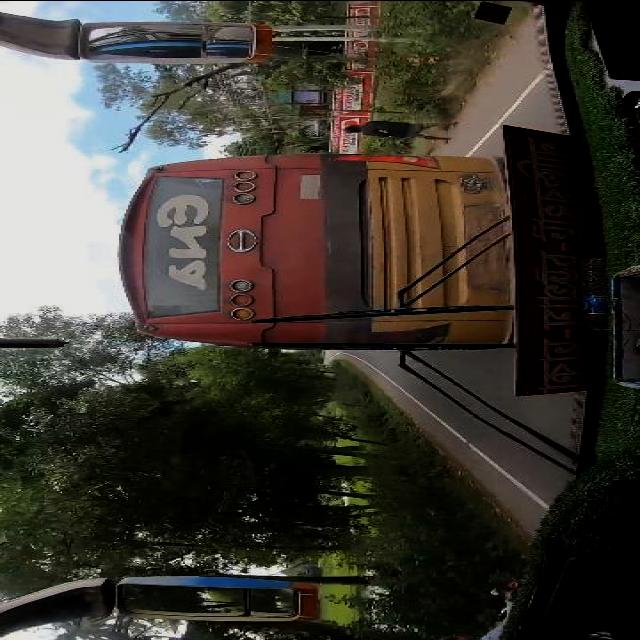bus: (114, 150, 510, 345)
